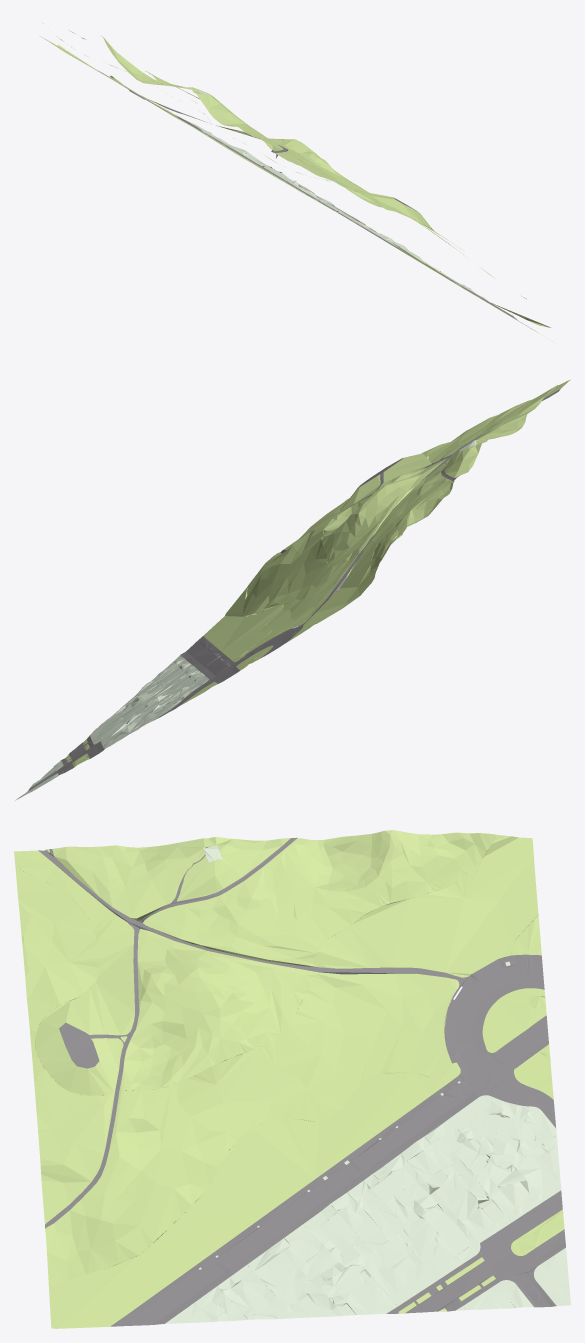
3 renders of one model, top to bottom at view 1: azimuth 30°, elevation 25°; view 2: azimuth 150°, elevation 25°; view 3: azimuth 270°, elevation 25°, orthographic. The views are drawn at different scales.
Bounding box in the file's own units: 216 × 171 × 267.
